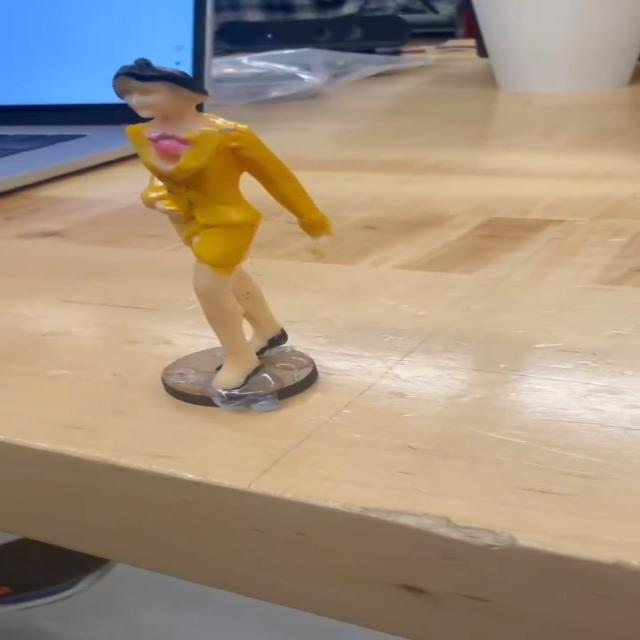Authorized: (100, 45, 334, 392)
